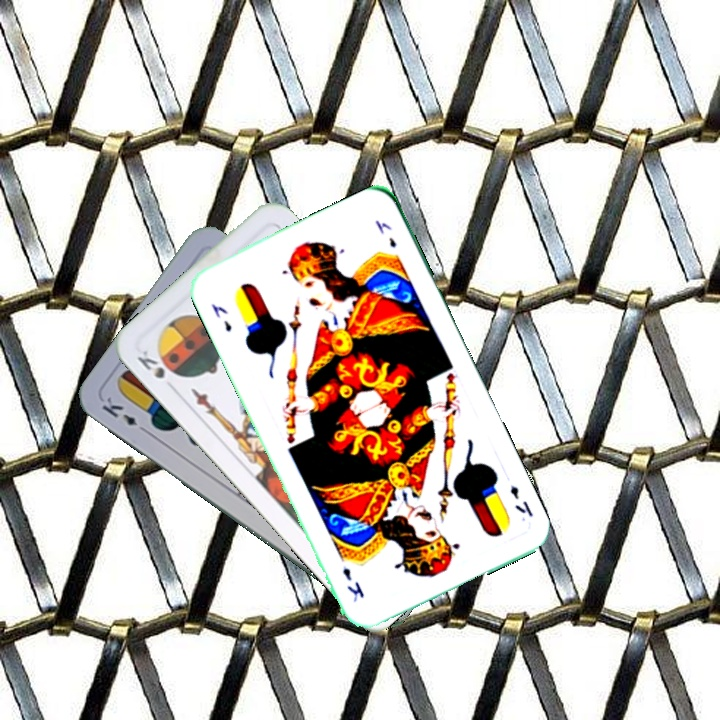EK: (97, 392, 151, 436), (506, 481, 536, 520), (207, 299, 235, 335)
SK: (132, 345, 181, 381)
